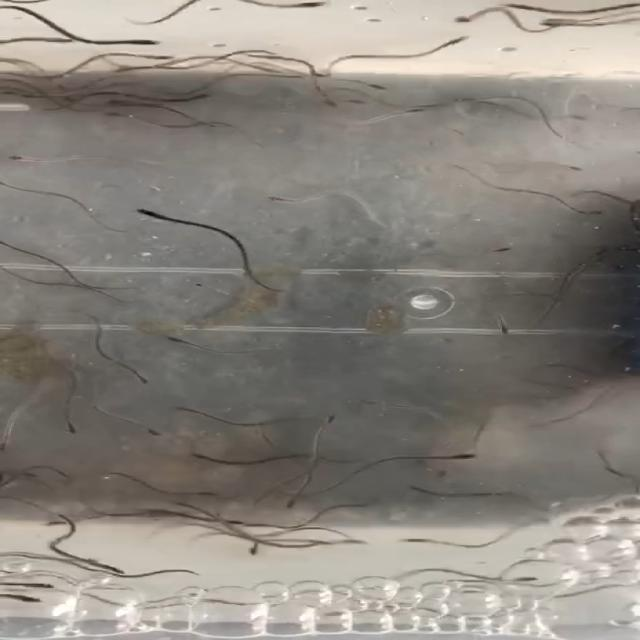active_glass_eel: (105, 36, 176, 60), (436, 95, 492, 119), (276, 0, 338, 20), (387, 534, 453, 551), (472, 241, 514, 267), (538, 156, 584, 178), (96, 94, 149, 113), (488, 308, 522, 337), (121, 204, 157, 230), (442, 9, 484, 29), (34, 30, 76, 50), (538, 16, 578, 36), (313, 407, 344, 432), (48, 205, 93, 222), (421, 35, 470, 50), (237, 532, 267, 556), (0, 429, 31, 452), (142, 516, 198, 528), (125, 478, 171, 492), (523, 98, 561, 114), (319, 92, 354, 109), (508, 570, 550, 584), (394, 104, 428, 121), (574, 404, 599, 427), (575, 195, 600, 218), (0, 152, 66, 160), (580, 94, 606, 114), (160, 333, 187, 352), (134, 420, 170, 434), (580, 220, 608, 238), (59, 422, 90, 438), (257, 497, 306, 507), (100, 561, 126, 579), (10, 89, 43, 103), (335, 538, 367, 552), (199, 548, 226, 564), (433, 450, 480, 459), (266, 192, 296, 206), (183, 532, 212, 546), (119, 372, 152, 384), (172, 450, 209, 459), (19, 590, 44, 603), (19, 579, 47, 590), (91, 57, 119, 68)
